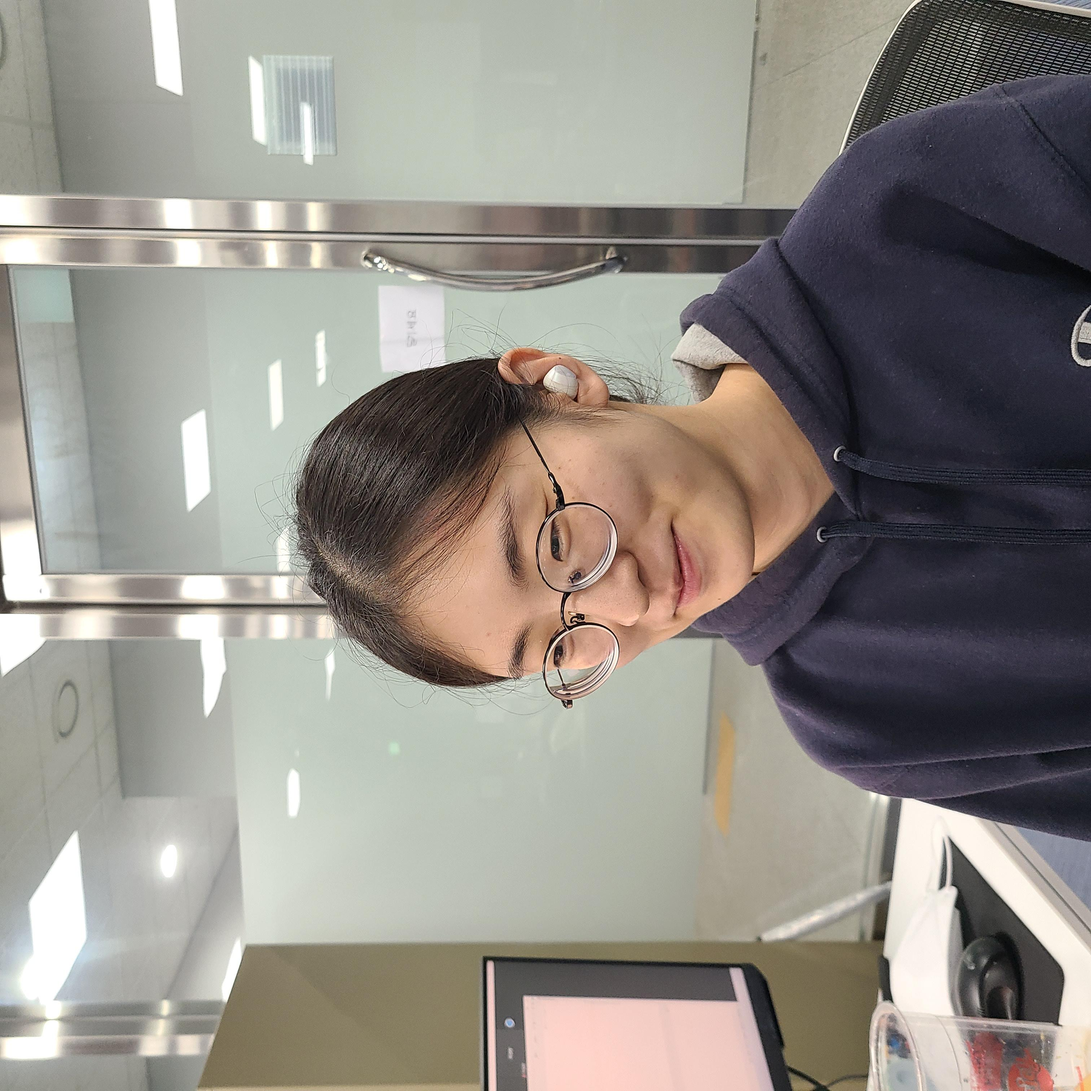earphone: (686, 533, 730, 586)
